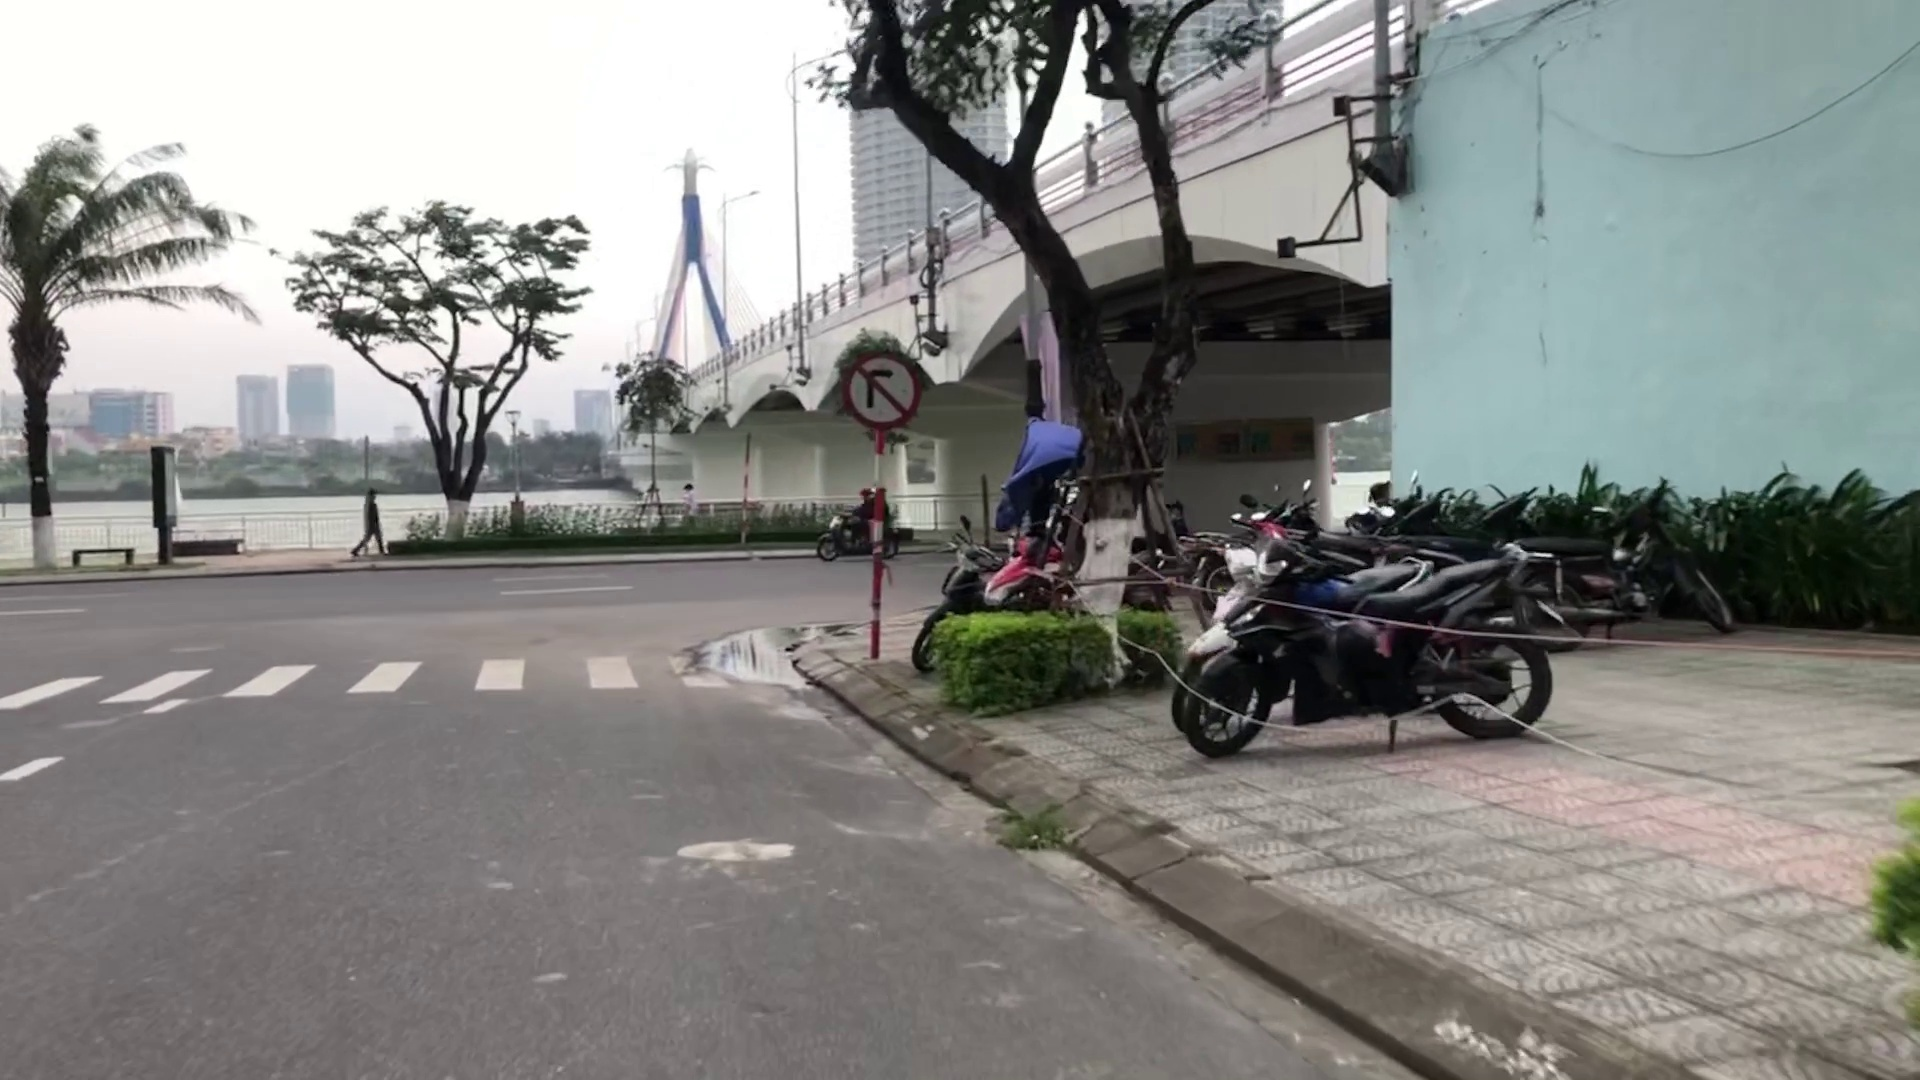Bien khac: (847, 353, 915, 434)
